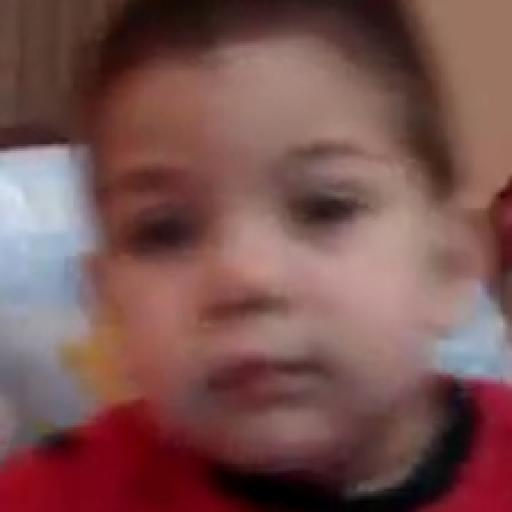Autism: (45, 0, 512, 482)
